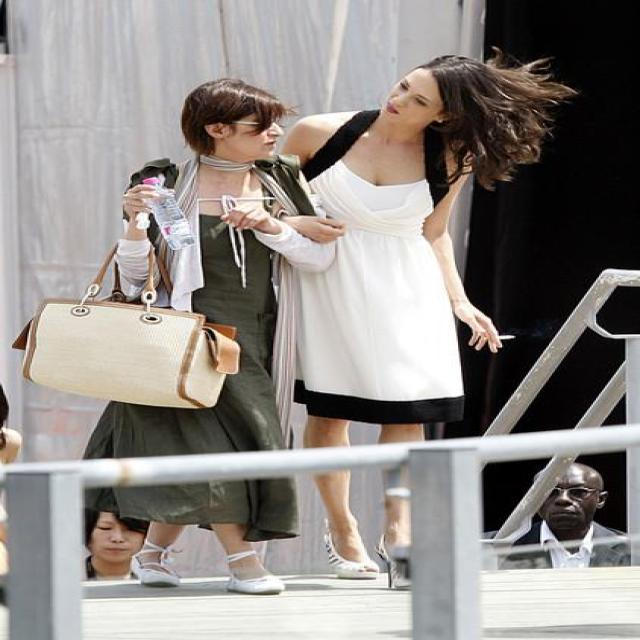cigarette: (479, 317, 522, 354)
